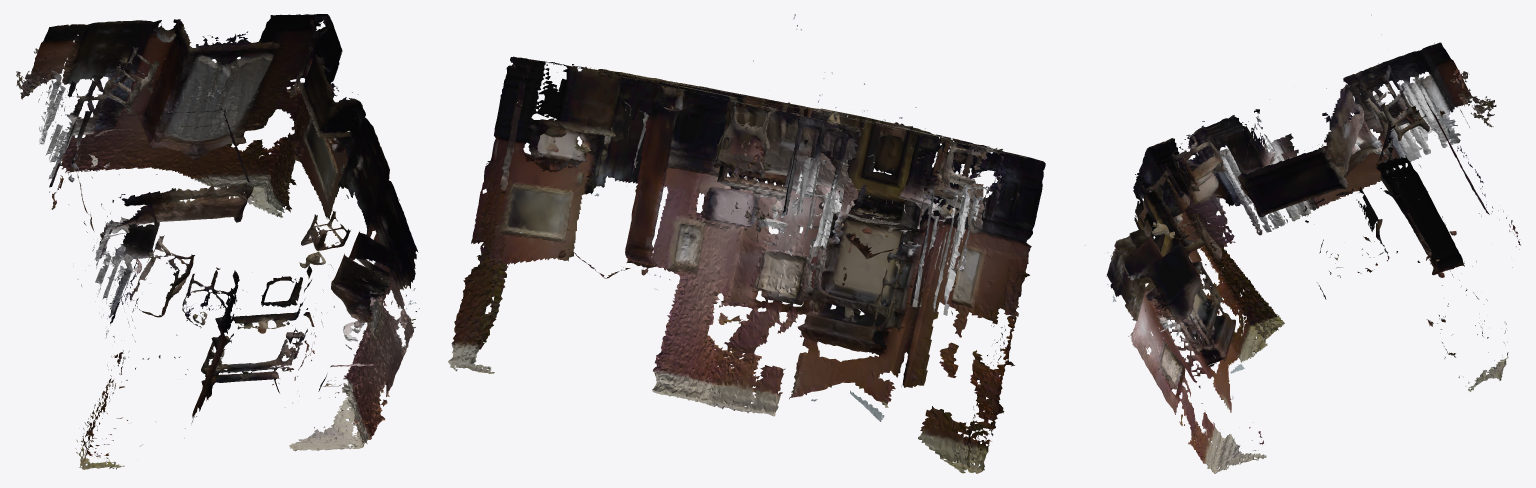
The model's file is prior-assisted-viewable.glb.
The picture shows the model from 3 angles, left to right: view 1: azimuth 30°, elevation 25°; view 2: azimuth 150°, elevation 25°; view 3: azimuth 270°, elevation 25°; orthographic projection. The views are drawn at different scales.
Parts seen in each view (by area): view 1: world; view 2: world; view 3: world.
Part boxes in pixels (bbox=[...]): world: bbox=[16, 14, 419, 469]; world: bbox=[448, 14, 1045, 473]; world: bbox=[1085, 14, 1520, 473].
Size of the model in its own units: 5.99 by 6.55 by 7.36.
